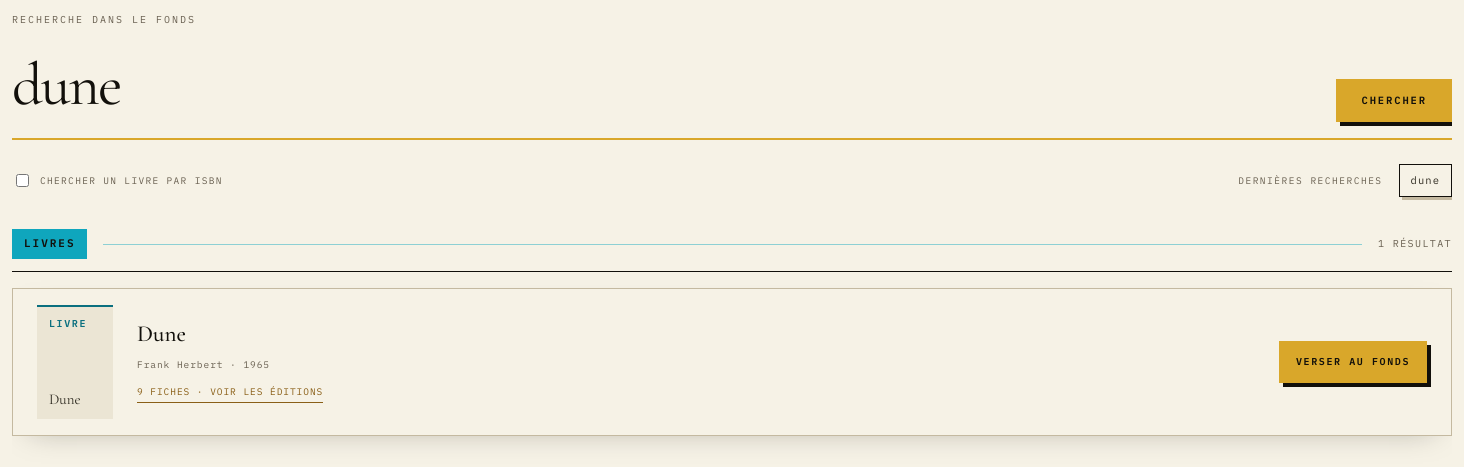
Test: Recherche — la ligne groupée et son dépliage › laisse la ligne versable quand le dépliage échoue
What coordinates should you click on to do the following:
click the button "9 fiches · voir les éditions"
I would click on:
 (230, 394)
Its box is [137,384,323,403].
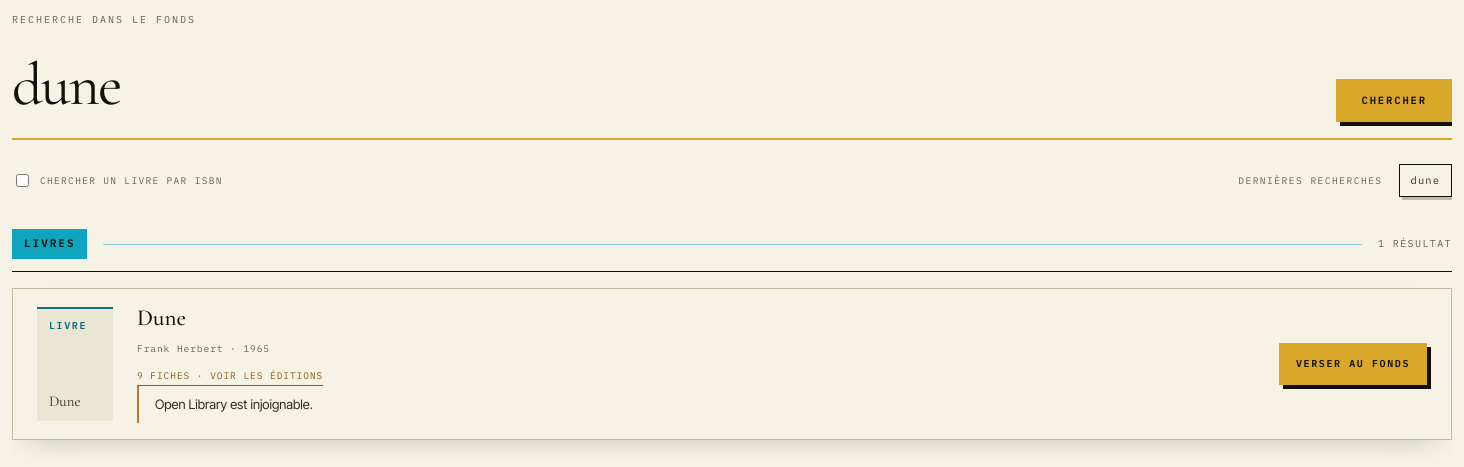
Expected: the button "Verser au fonds" is enabled, [1279,343,1427,385]
Expected: the text "Open Library est injoignable." is shown, [155,394,313,415]
